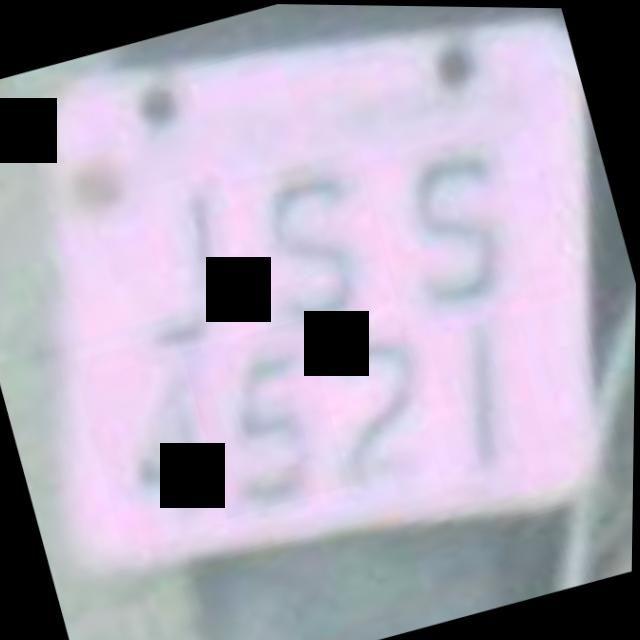1: (391, 272, 559, 505)
2: (277, 298, 468, 513)
4: (71, 325, 250, 548)
5: (181, 316, 353, 519)
J: (89, 148, 262, 361)
S: (357, 124, 542, 331), (226, 145, 403, 338)
